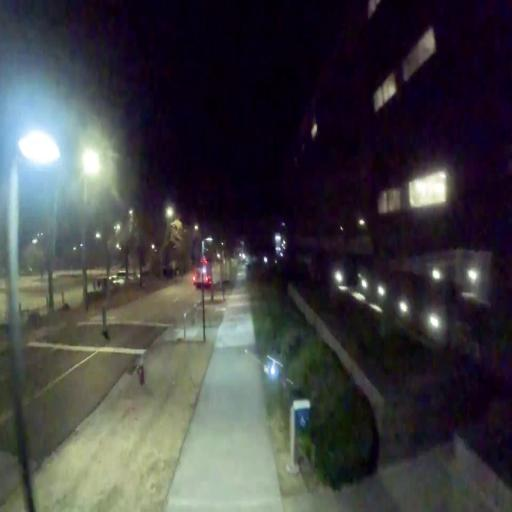uav: (245, 345, 291, 389)
